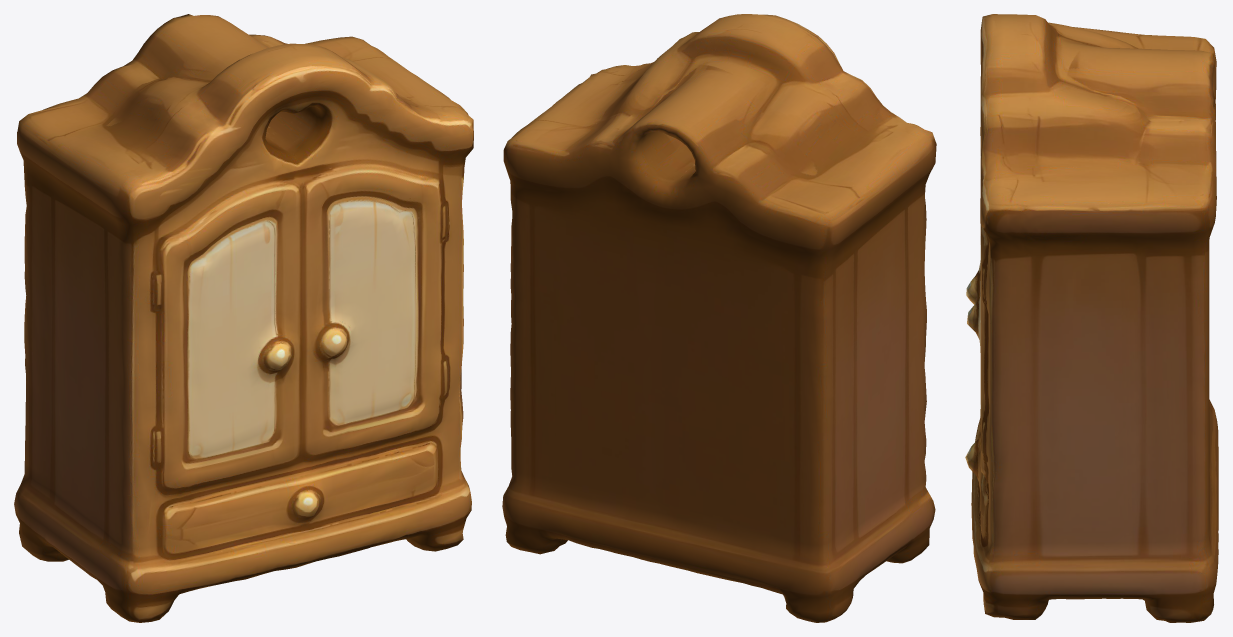
File: Wood_Heart_Cabinet.glb
3 renders of one model, left to right at view 1: azimuth 30°, elevation 25°; view 2: azimuth 150°, elevation 25°; view 3: azimuth 270°, elevation 25°, orthographic. The views are drawn at different scales.
Parts seen in each view (by area): view 1: RETOPO; view 2: RETOPO; view 3: RETOPO.
Part boxes in pixels (x1,y1,x2,y2): RETOPO: [14, 14, 473, 622]; RETOPO: [502, 14, 936, 622]; RETOPO: [965, 14, 1218, 622].
Bounding box in the file's own units: 0.6774 × 0.9498 × 0.4222.
Materials: 1 (1 with a texture image).
